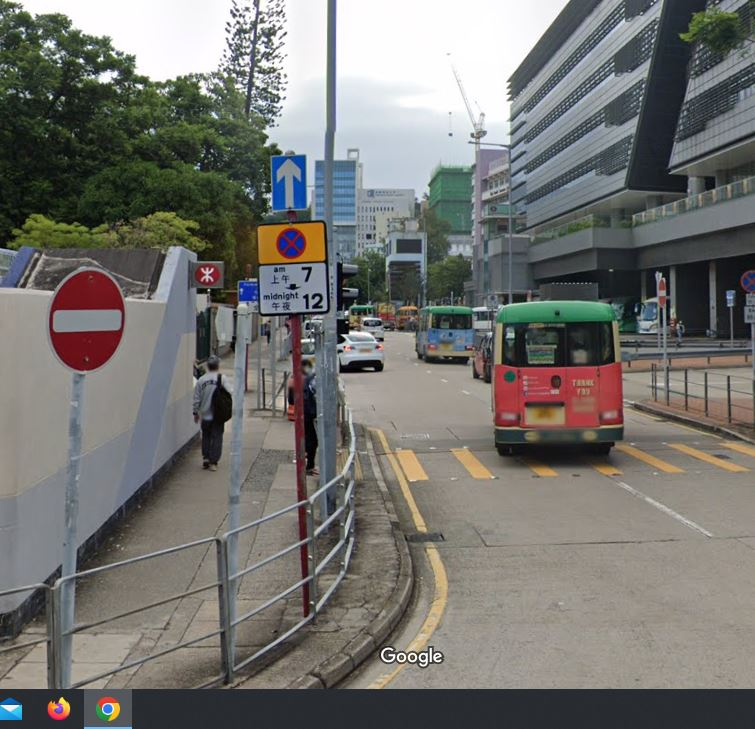No Enter: (44, 265, 125, 371), (657, 282, 668, 306)
One Way Traffic: (267, 155, 308, 211)
Start Of No Stopping: (252, 224, 329, 314)
